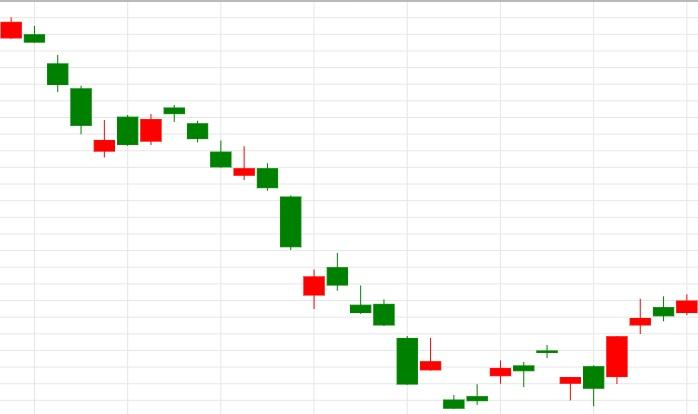three_black_crows_fall: (93, 104, 232, 168)
